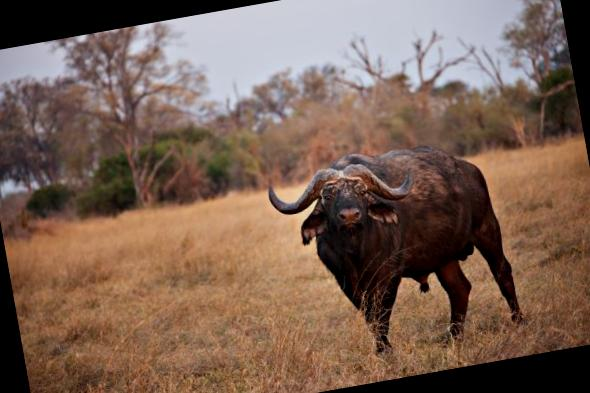Buffalo: (254, 106, 590, 367)
